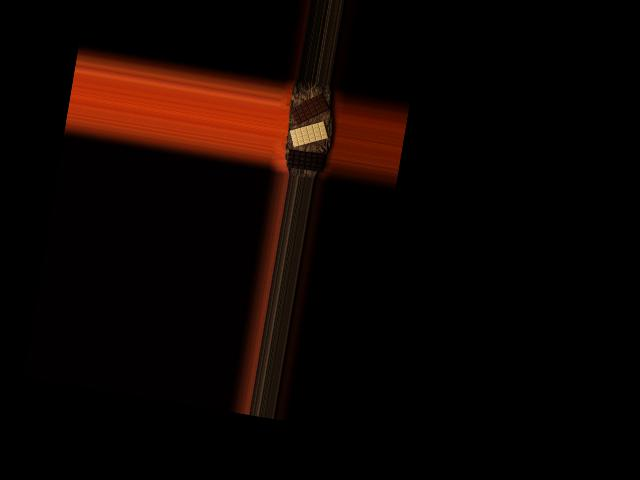chocolate: (286, 148, 325, 173)
